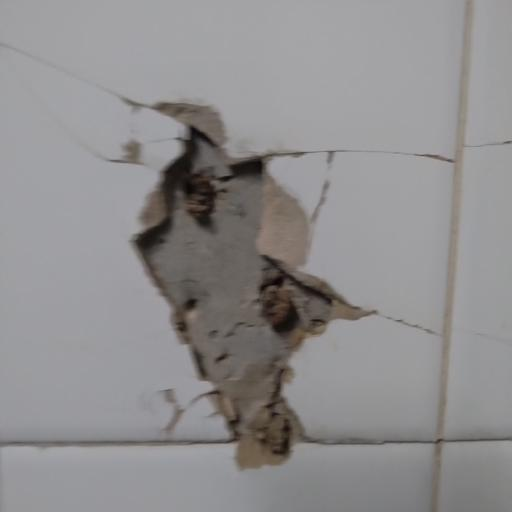spalling: (86, 80, 419, 471)
